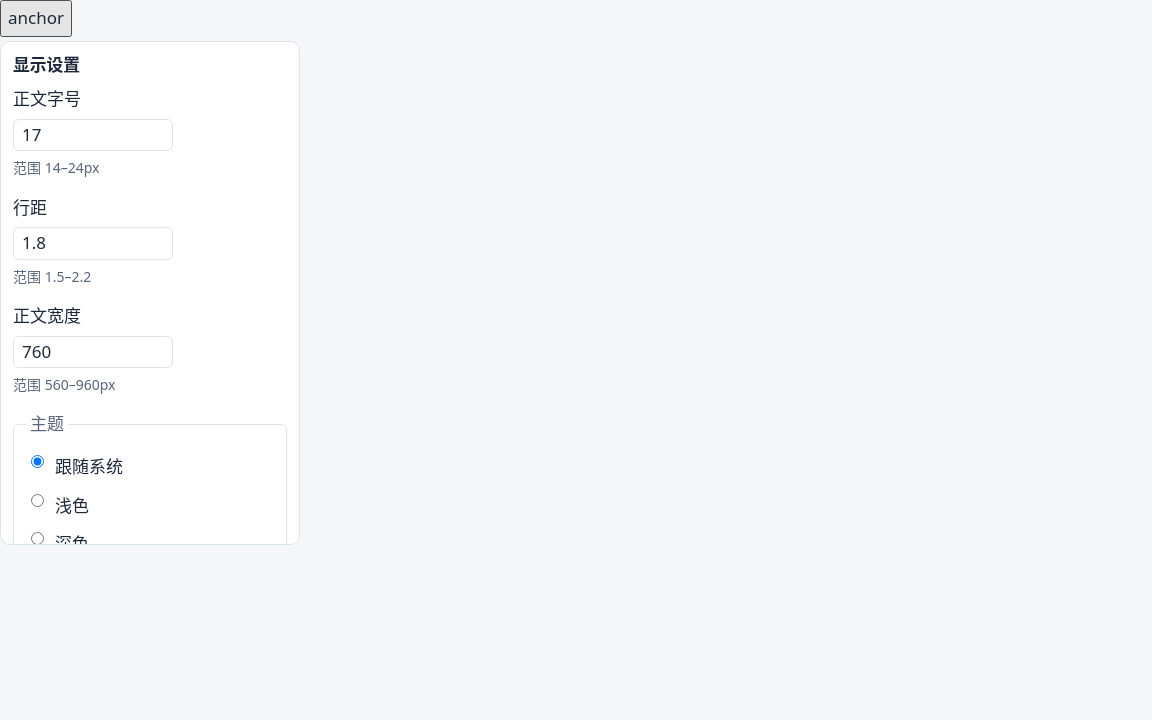
TypographyPopover › keeps the last valid value and explains an out-of-range entry
Replace the text in the number field labelled "正文字号" with "30" at (93, 135), box 13,119 -> 173,152
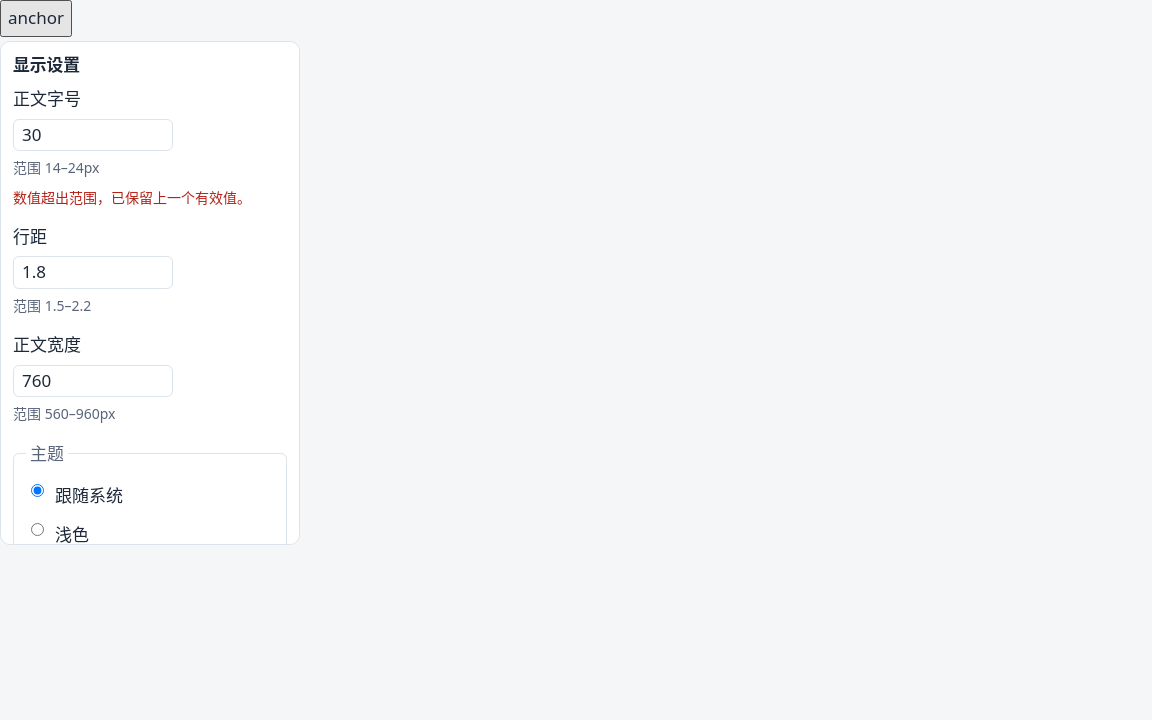
Check: the text "数值超出范围，已保留上一个有效值。" is shown, box 13,185 -> 287,210
Replace the text in the number field labelled "正文字号" with "20" at (93, 135), box 13,119 -> 173,152
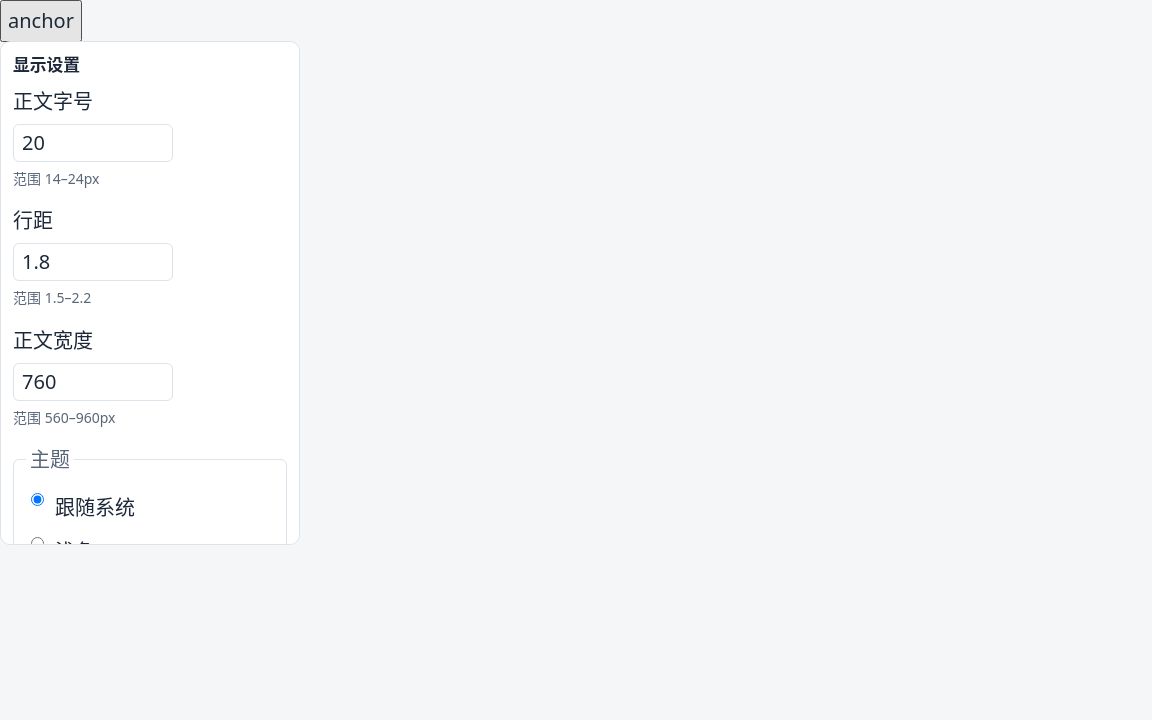
Check: the text "数值超出范围，已保留上一个有效值。" is gone
